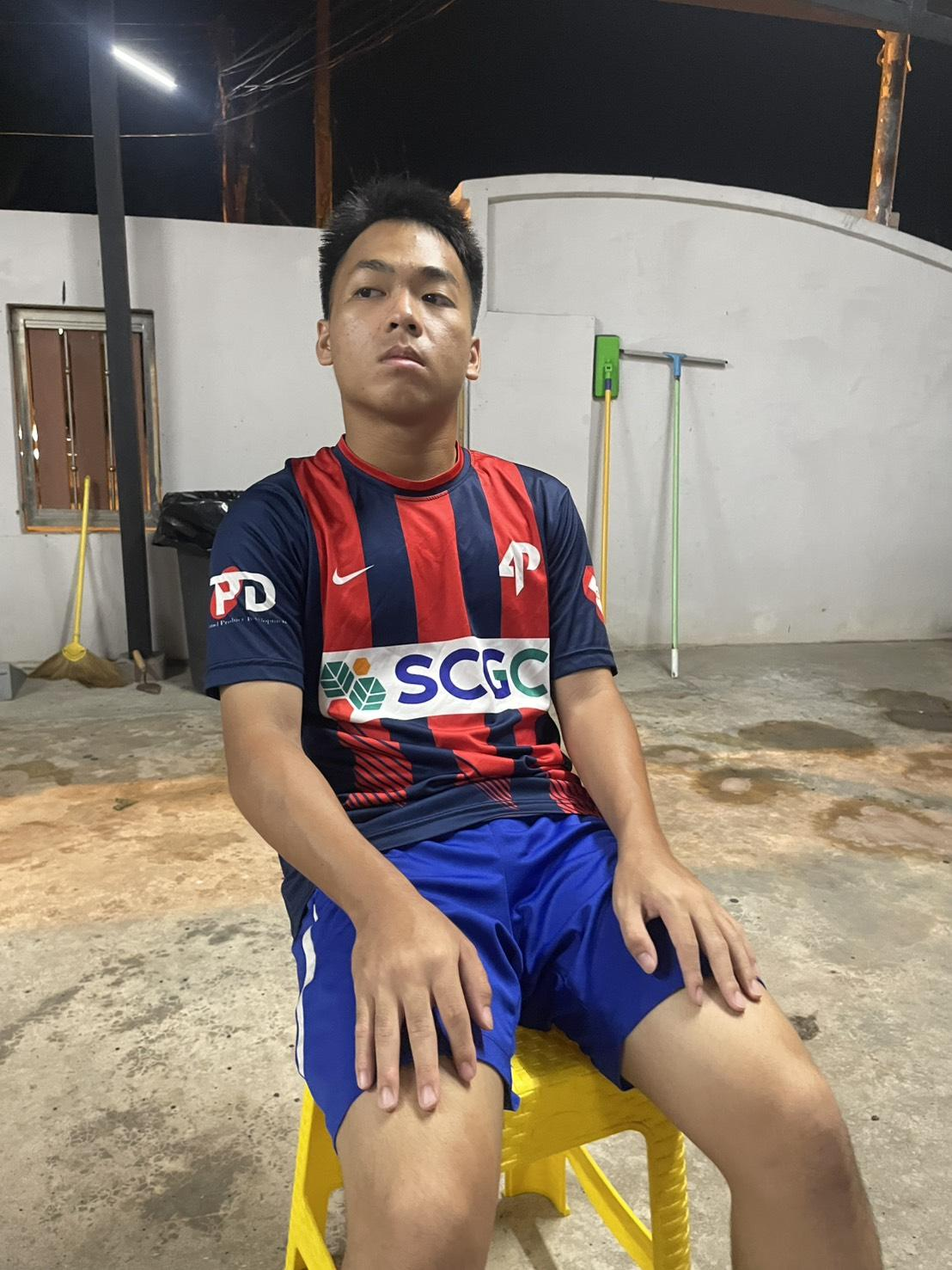BadPosture: (207, 182, 614, 850)
